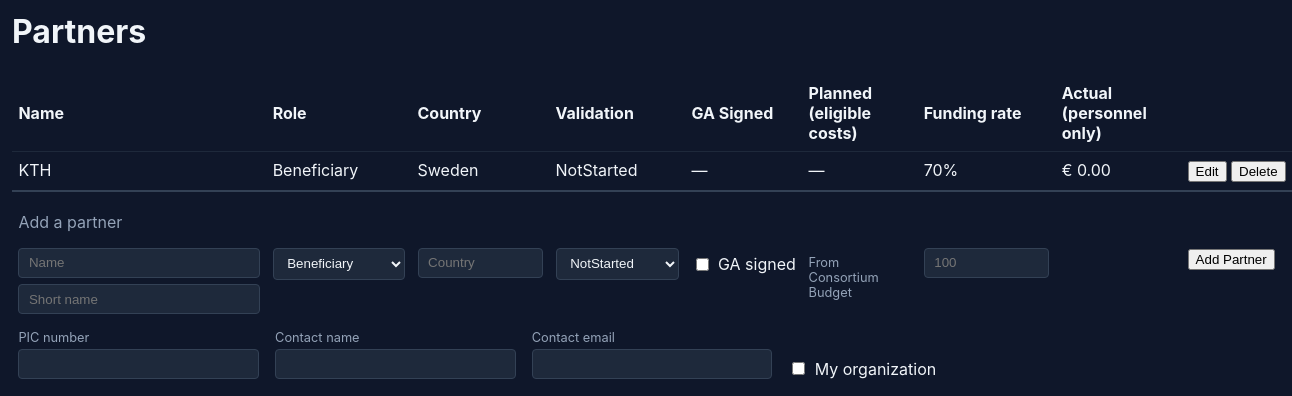
Test case: Partners screen › Edit loads the partner into the form and saves through update, not add
Later steps or results of the test are not shown.
Click the button "Edit".
click(1207, 172)  # box [1188, 161, 1227, 182]
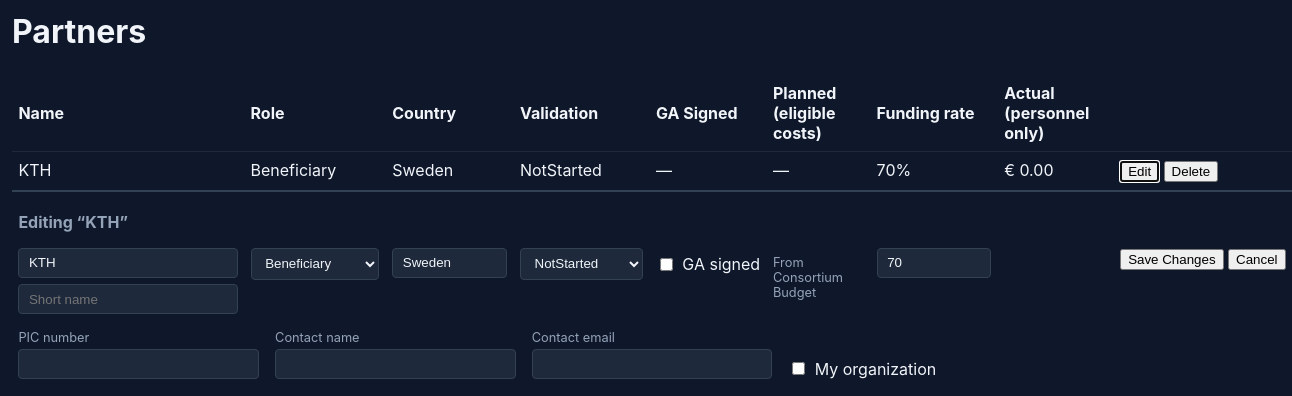
Now the field with placeholder "Name" holds "KTH", box [18, 248, 238, 278]
Now the field named "EU funding rate percent" holds "70", box [877, 248, 992, 278]
